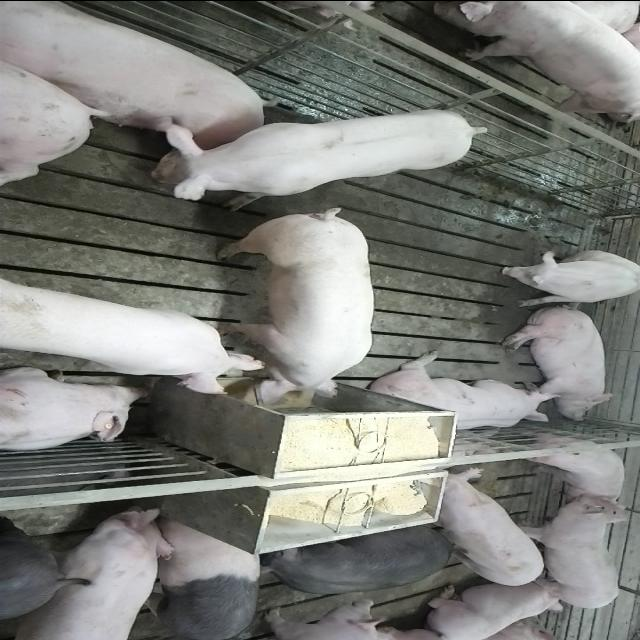Feeding: (210, 203, 373, 406), (8, 277, 274, 393)
Lateral_lying: (500, 303, 618, 420)
Sitting: (496, 250, 640, 306)
Standing: (148, 104, 492, 206), (432, 0, 640, 117), (1, 505, 180, 639), (134, 516, 261, 638), (422, 470, 544, 589), (508, 494, 626, 612), (266, 524, 456, 596), (510, 436, 626, 504), (0, 534, 64, 626)
Sternal_lying: (366, 354, 561, 432), (0, 368, 147, 456), (420, 579, 568, 637)
